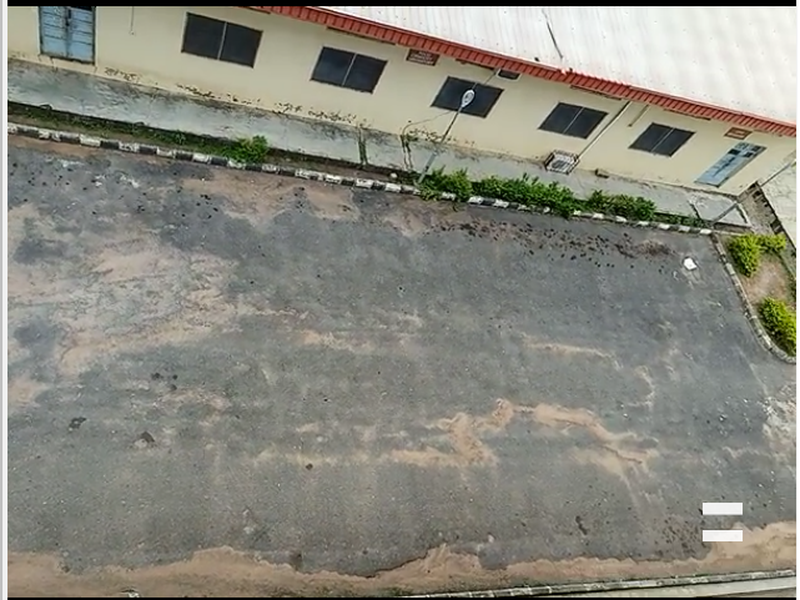five: (623, 197, 746, 353)
four: (485, 175, 584, 364)
one: (7, 100, 118, 328)
three: (327, 161, 437, 343)
two: (168, 137, 278, 346)
